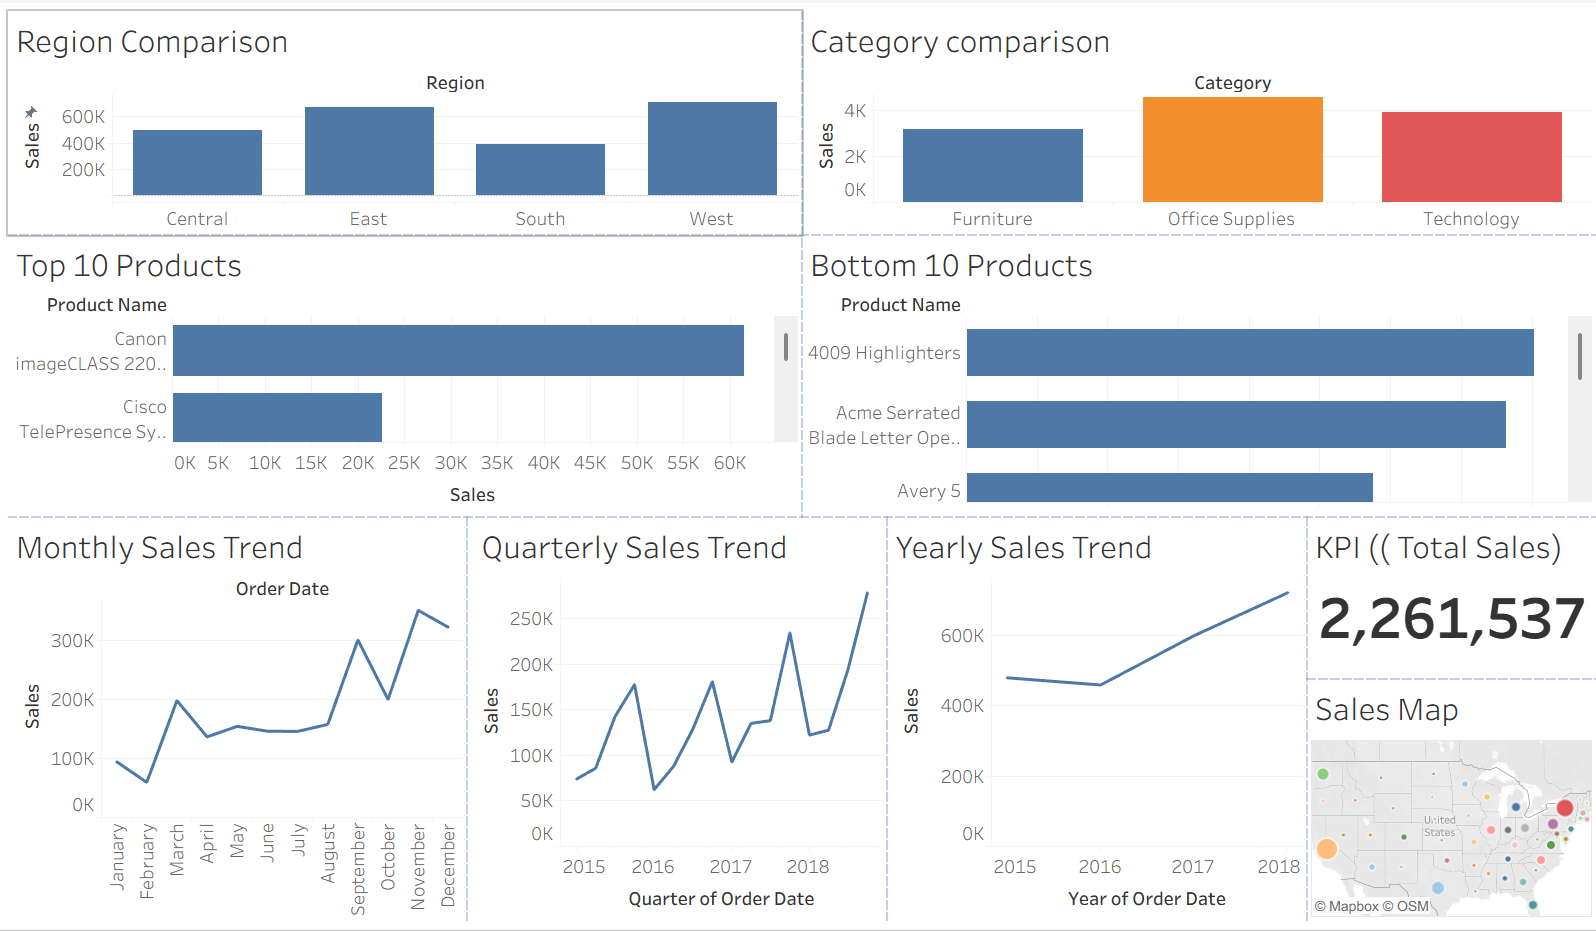

What the dashboard file says about the page in this screenshot:
{"tool":"tableau","page":{"name":"Dashboard 1","canvas":[1000,1000],"units":"permille","ordinal":0},"visuals":[{"type":"worksheet","title":"Region Comparison","mark":"Automatic","rows":["Sales"],"cols":["Region"],"box":[5,8.6,495,241.5]},{"type":"worksheet","title":"Category comparison ","mark":"Automatic","rows":["Sales"],"cols":["Category"],"box":[500,8.6,495,241.5]},{"type":"worksheet","title":"Top 10 Products","mark":"Automatic","rows":["Product Name"],"cols":["Sales"],"box":[5,250.1,495,305]},{"type":"worksheet","title":"Bottom 10 Products","mark":"Automatic","rows":["Product Name"],"cols":["Sales"],"box":[500,250.1,495,305]},{"type":"worksheet","title":"Monthly Sales Trend","mark":"Automatic","rows":["Sales"],"cols":["Order Date"],"box":[5,555.1,286.2,436.3]},{"type":"worksheet","title":" Quarterly Sales Trend","mark":"Automatic","rows":["Sales"],"cols":["Order Date"],"box":[291.1,555.1,261.8,436.3]},{"type":"worksheet","title":"Yearly Sales Trend","mark":"Automatic","rows":["Sales"],"cols":["Order Date"],"box":[552.9,555.1,261.8,436.3]},{"type":"worksheet","title":"KPI (( Total Sales)","mark":"Text","box":[814.8,555.1,180.3,174.9]},{"type":"worksheet","title":"Sales Map","mark":"Automatic","box":[814.8,730,180.3,261.3]}]}

Visuals, with their boxes on the dashboard's canvas, which has no fixed pixel size, in thousandths of its width and height (x1, y1, x2, y2). These are canvas units, not pixel positions in the 1596x931 screenshot, which may show the page scaled, cropped or inside an application window:
"Region Comparison" worksheet: [5,9,500,250]
"Category comparison " worksheet: [500,9,995,250]
"Top 10 Products" worksheet: [5,250,500,555]
"Bottom 10 Products" worksheet: [500,250,995,555]
"Monthly Sales Trend" worksheet: [5,555,291,991]
" Quarterly Sales Trend" worksheet: [291,555,553,991]
"Yearly Sales Trend" worksheet: [553,555,815,991]
"KPI (( Total Sales)" worksheet (Text marks): [815,555,995,730]
"Sales Map" worksheet: [815,730,995,991]
